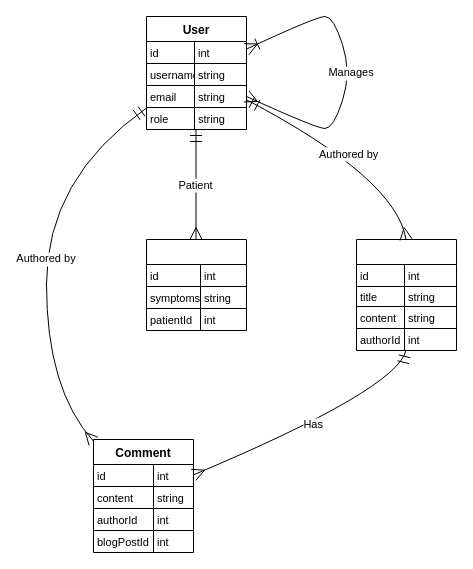
The diagram is 473 pixels wide and 569 high, and some of its shapes have lost their labels. The box of each missing label's shape, as (x1, y1, x2, y2) in pixels:
BlogPost: (356, 238, 456, 350)
MedicalForm: (146, 238, 246, 330)
